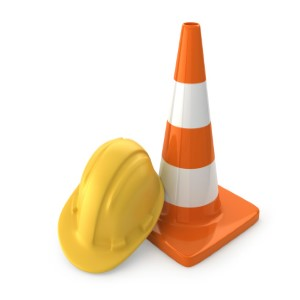traffic cone: (132, 22, 259, 267)
